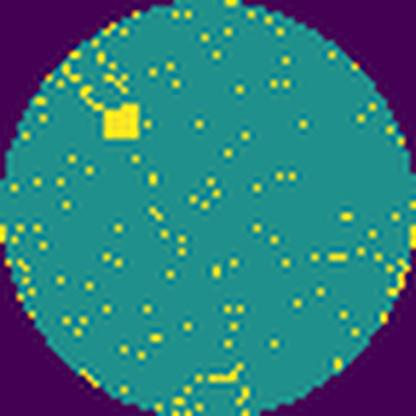Loc: (105, 103, 141, 140)
